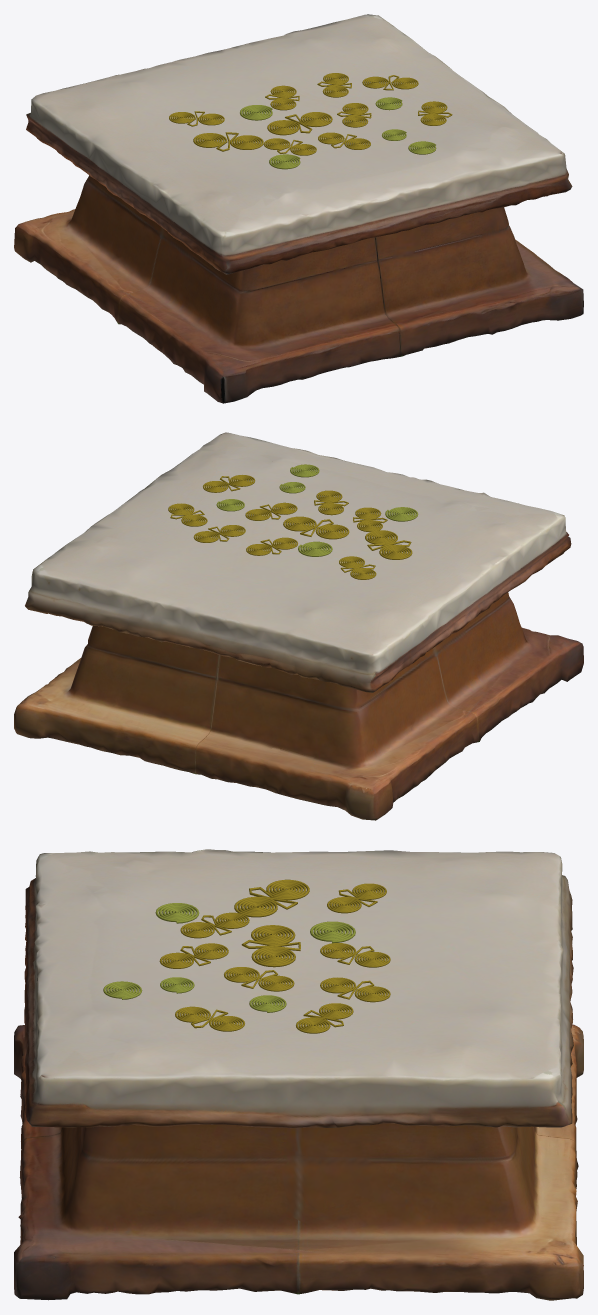
The model's file is benda18.glb.
The picture shows the model from 3 angles, top to bottom: view 1: azimuth 30°, elevation 25°; view 2: azimuth 150°, elevation 25°; view 3: azimuth 270°, elevation 25°; orthographic projection. The views are drawn at different scales.
Visible parts, largest first — view 1: Mesh_0, Spiral, Spiral.002, Spiral.011, Spiral.005, Spiral.003, Spiral.007, Spiral.012, Spiral.004, Spiral.006, Spiral.014; view 2: Mesh_0, Spiral, Spiral.002, Spiral.011, Spiral.007, Spiral.004, Spiral.003, Spiral.005, Spiral.006, Spiral.014, Spiral.012; view 3: Mesh_0, Spiral.002, Spiral, Spiral.003, Spiral.011, Spiral.005, Spiral.014, Spiral.007, Spiral.006, Spiral.012, Spiral.004, Spiral.010 (+1 smaller).
Part boxes in pixels (left/top/right/bottom): Mesh_0: left=14, top=14, right=583, bottom=403; Spiral: left=267, top=112, right=332, bottom=135; Spiral.002: left=193, top=132, right=263, bottom=151; Spiral.011: left=362, top=75, right=418, bottom=90; Spiral.005: left=317, top=73, right=351, bottom=97; Spiral.003: left=169, top=111, right=224, bottom=126; Spiral.007: left=318, top=132, right=370, bottom=149; Spiral.012: left=418, top=101, right=452, bottom=125; Spiral.004: left=265, top=85, right=299, bottom=110; Spiral.006: left=337, top=103, right=371, bottom=127; Spiral.014: left=263, top=138, right=316, bottom=155; Mesh_0: left=14, top=432, right=583, bottom=820; Spiral: left=283, top=516, right=349, bottom=539; Spiral.002: left=365, top=530, right=412, bottom=559; Spiral.011: left=168, top=503, right=207, bottom=526; Spiral.007: left=314, top=490, right=348, bottom=515; Spiral.004: left=246, top=537, right=297, bottom=555; Spiral.003: left=339, top=556, right=376, bottom=579; Spiral.005: left=193, top=525, right=245, bottom=542; Spiral.006: left=245, top=502, right=297, bottom=520; Spiral.014: left=353, top=507, right=387, bottom=531; Spiral.012: left=203, top=475, right=255, bottom=492; Mesh_0: left=14, top=849, right=583, bottom=1300; Spiral.002: left=234, top=879, right=309, bottom=917; Spiral: left=241, top=925, right=300, bottom=967; Spiral.003: left=327, top=883, right=386, bottom=913; Spiral.011: left=296, top=1003, right=353, bottom=1033; Spiral.005: left=320, top=977, right=390, bottom=1002; Spiral.014: left=180, top=912, right=249, bottom=938; Spiral.007: left=159, top=943, right=228, bottom=968; Spiral.006: left=224, top=967, right=294, bottom=991; Spiral.012: left=175, top=1006, right=244, bottom=1031; Spiral.004: left=320, top=943, right=390, bottom=967; Spiral.010: left=310, top=921, right=355, bottom=943.
Size of the model in its own units: 2 by 0.8988 by 2.
3 materials, 1 textured.
